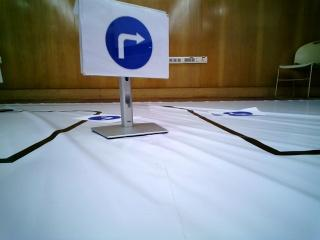right: (85, 1, 168, 74)
